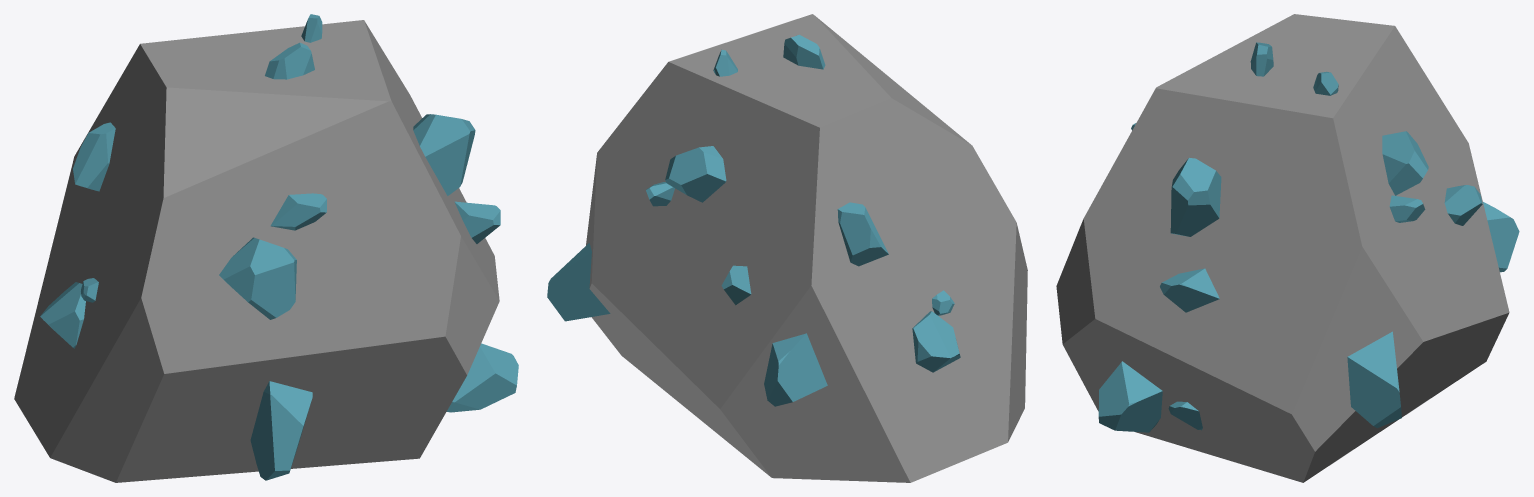
3 renders of one model, left to right at view 1: azimuth 30°, elevation 25°; view 2: azimuth 150°, elevation 25°; view 3: azimuth 270°, elevation 25°, orthographic. The views are drawn at different scales.
Visible parts, largest first — view 1: Diamond_Ore; view 2: Diamond_Ore; view 3: Diamond_Ore.
Part boxes in pixels (x1,y1,x2,y2): Diamond_Ore: (14, 14, 518, 482); Diamond_Ore: (547, 14, 1027, 482); Diamond_Ore: (1056, 14, 1519, 482).
Size of the model in its own units: 2.02 by 1.57 by 1.84.
